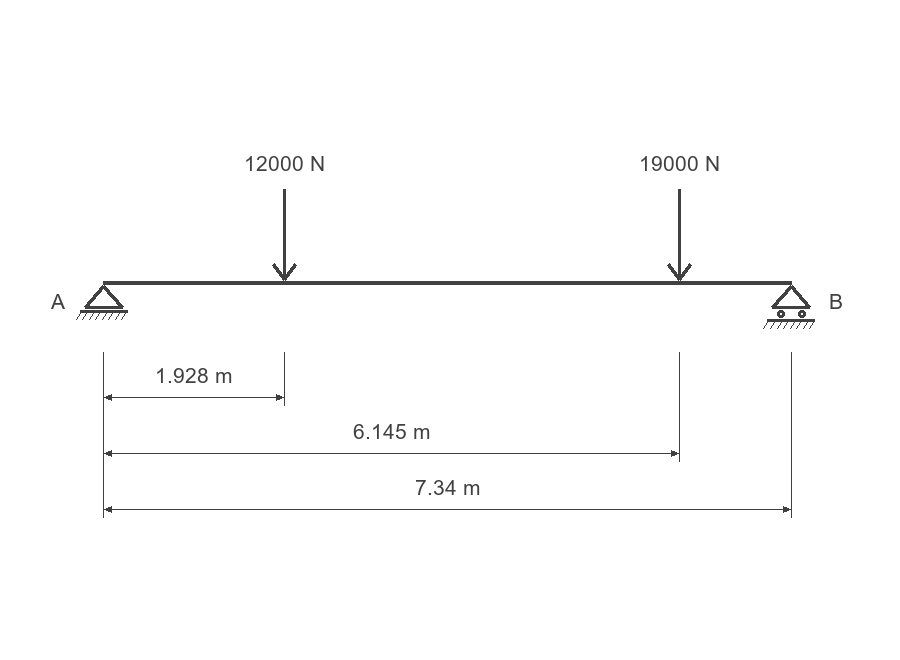pin_support: (76, 285, 128, 320)
point_load: (272, 189, 297, 281), (667, 189, 692, 281)
roller_support: (763, 285, 815, 329)
